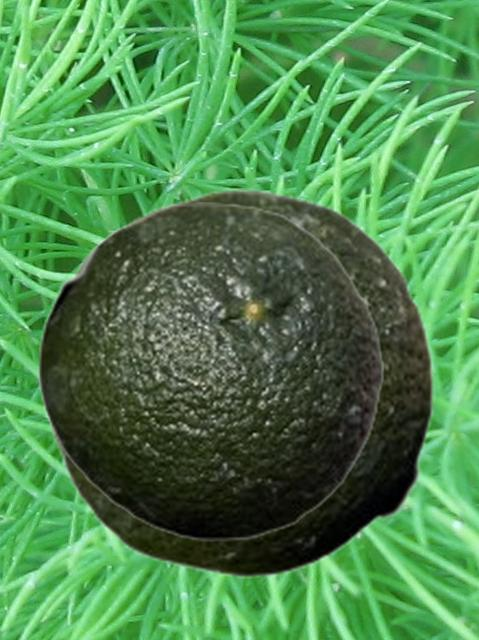calamansi: (39, 188, 434, 577), (37, 202, 384, 540)
